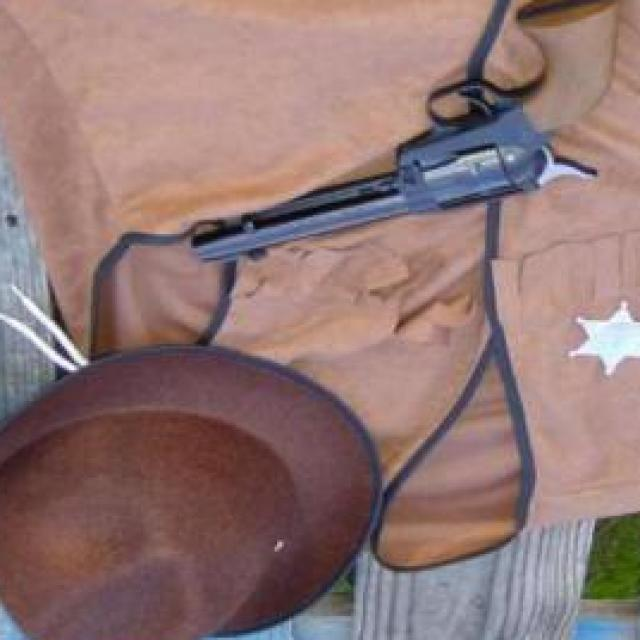pistol: (191, 0, 623, 268)
